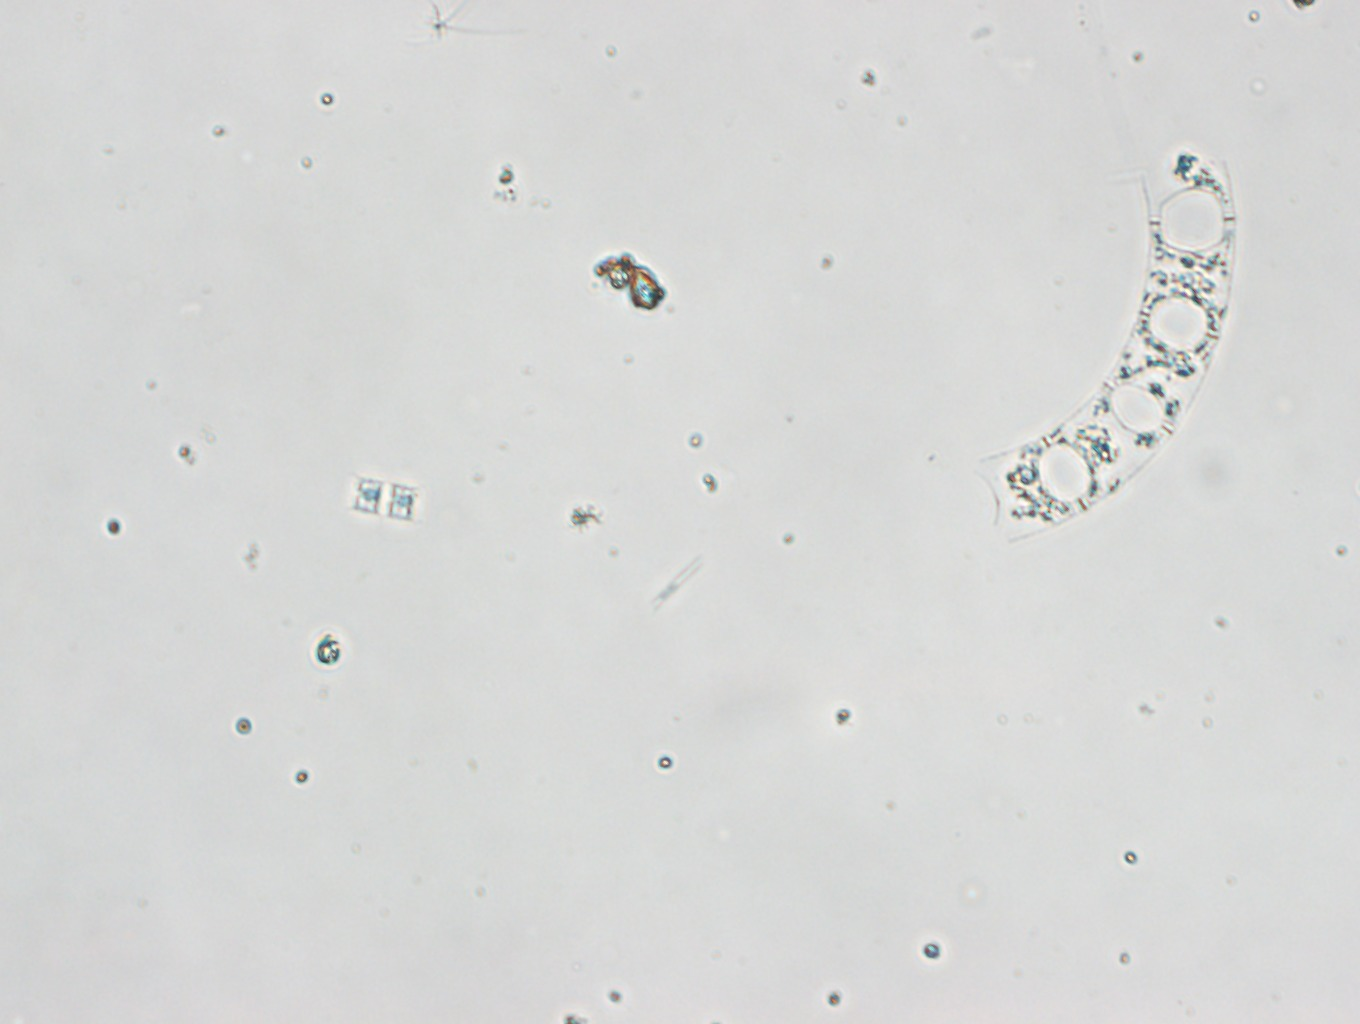eucampia: (972, 147, 1239, 541)
